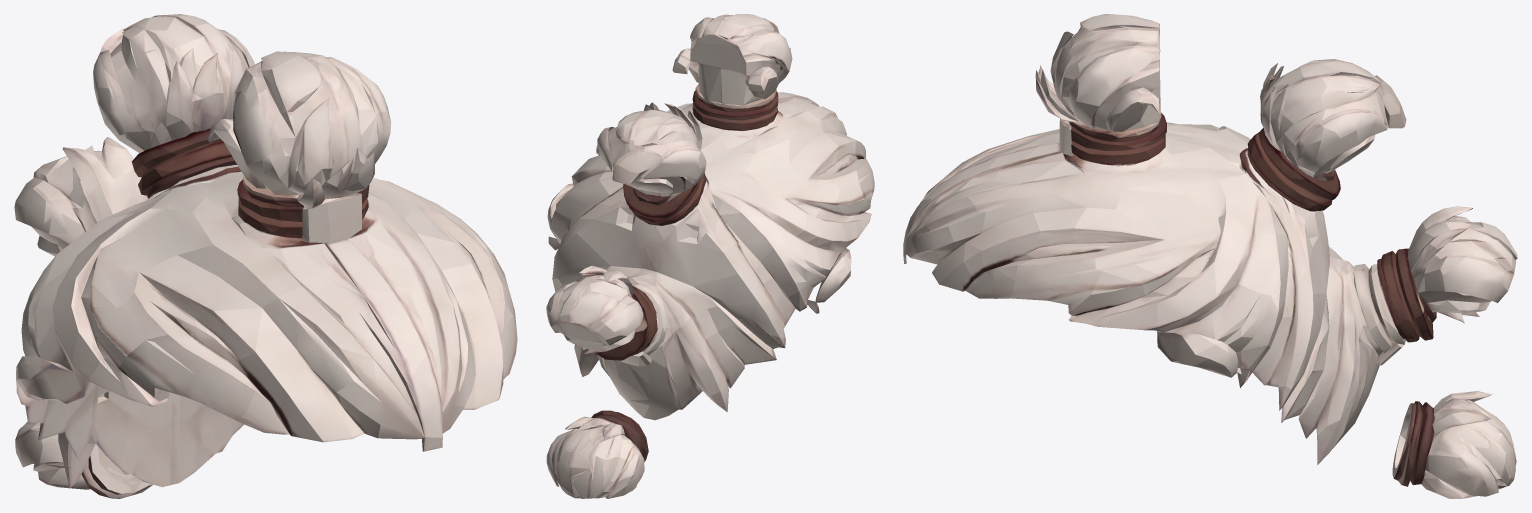
File: thalor_m-chignon-homme-trois-noeuds.glb
The picture shows the model from 3 angles, left to right: view 1: azimuth 30°, elevation 25°; view 2: azimuth 150°, elevation 25°; view 3: azimuth 270°, elevation 25°; orthographic projection. The views are drawn at different scales.
Parts seen in each view (by area): view 1: geometry_0; view 2: geometry_0; view 3: geometry_0.
Part boxes in pixels (left/top/right/bottom): geometry_0: left=14, top=14, right=517, bottom=498; geometry_0: left=546, top=14, right=874, bottom=498; geometry_0: left=903, top=14, right=1517, bottom=498.
Size of the model in its own units: 1.32 by 1.57 by 1.9.
Materials: 1 (1 with a texture image).
